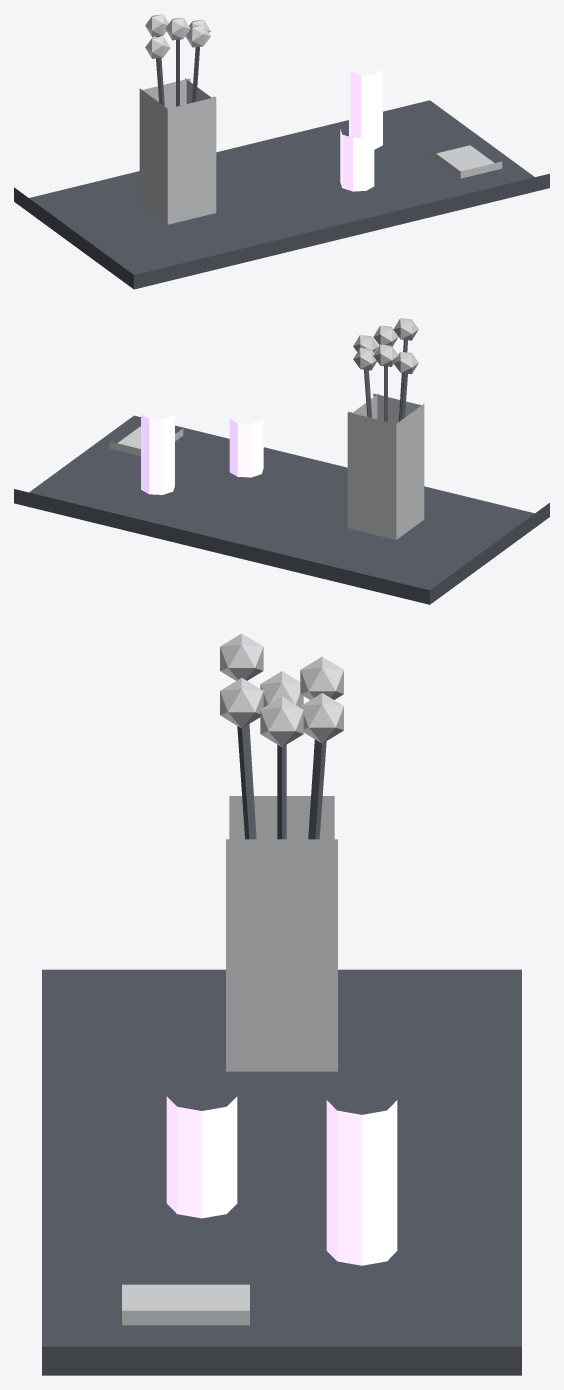
File: ext_offering_set_02.glb
3 views of the same model, one above another, from view 1: azimuth 30°, elevation 25°; view 2: azimuth 150°, elevation 25°; view 3: azimuth 270°, elevation 25° (orthographic). The views are drawn at different scales.
Visible parts, largest first — view 1: Tray, Vases, Candles, Dried_Petals, RFID_Tag, Stems; view 2: Tray, Vases, Candles, Dried_Petals, Stems, RFID_Tag; view 3: Tray, Vases, Candles, Dried_Petals, RFID_Tag, Stems.
Boxes of the visible parts, bbox=[...] form: Tray: bbox=[14, 100, 549, 289]; Vases: bbox=[139, 78, 216, 224]; Candles: bbox=[340, 67, 382, 191]; Dried_Petals: bbox=[145, 14, 210, 58]; RFID_Tag: bbox=[428, 145, 502, 178]; Stems: bbox=[156, 36, 199, 106]; Tray: bbox=[14, 415, 549, 604]; Vases: bbox=[347, 393, 424, 539]; Candles: bbox=[141, 411, 263, 494]; Dried_Petals: bbox=[353, 318, 418, 374]; Stems: bbox=[364, 340, 407, 421]; RFID_Tag: bbox=[109, 426, 183, 456]; Tray: bbox=[42, 969, 521, 1375]; Vases: bbox=[226, 796, 337, 1071]; Candles: bbox=[166, 1096, 397, 1265]; Dried_Petals: bbox=[220, 633, 343, 746]; RFID_Tag: bbox=[122, 1284, 249, 1325]; Stems: bbox=[237, 724, 326, 839].
Bounding box in the file's own units: 0.6 × 0.291 × 0.3.
